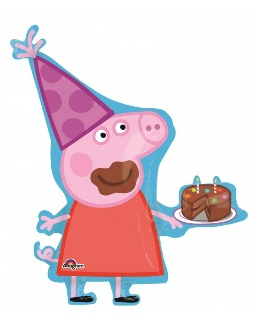Peppa: (8, 24, 183, 305)
